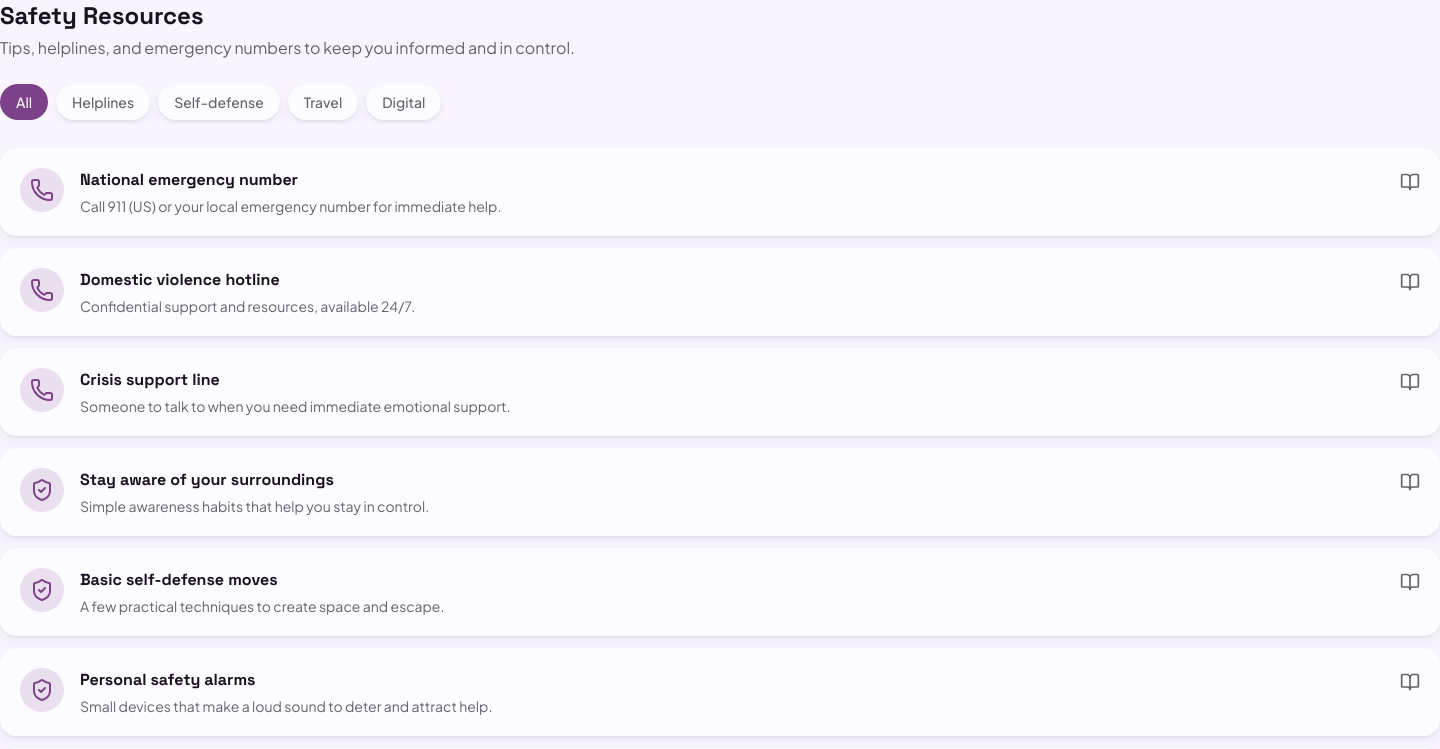
ResourcesPage › opens a resource detail view with full content
Step 1. Click the button with aria-label "Open National emergency number" → {"x": 42, "y": 190}, box [0,148,1439,236]
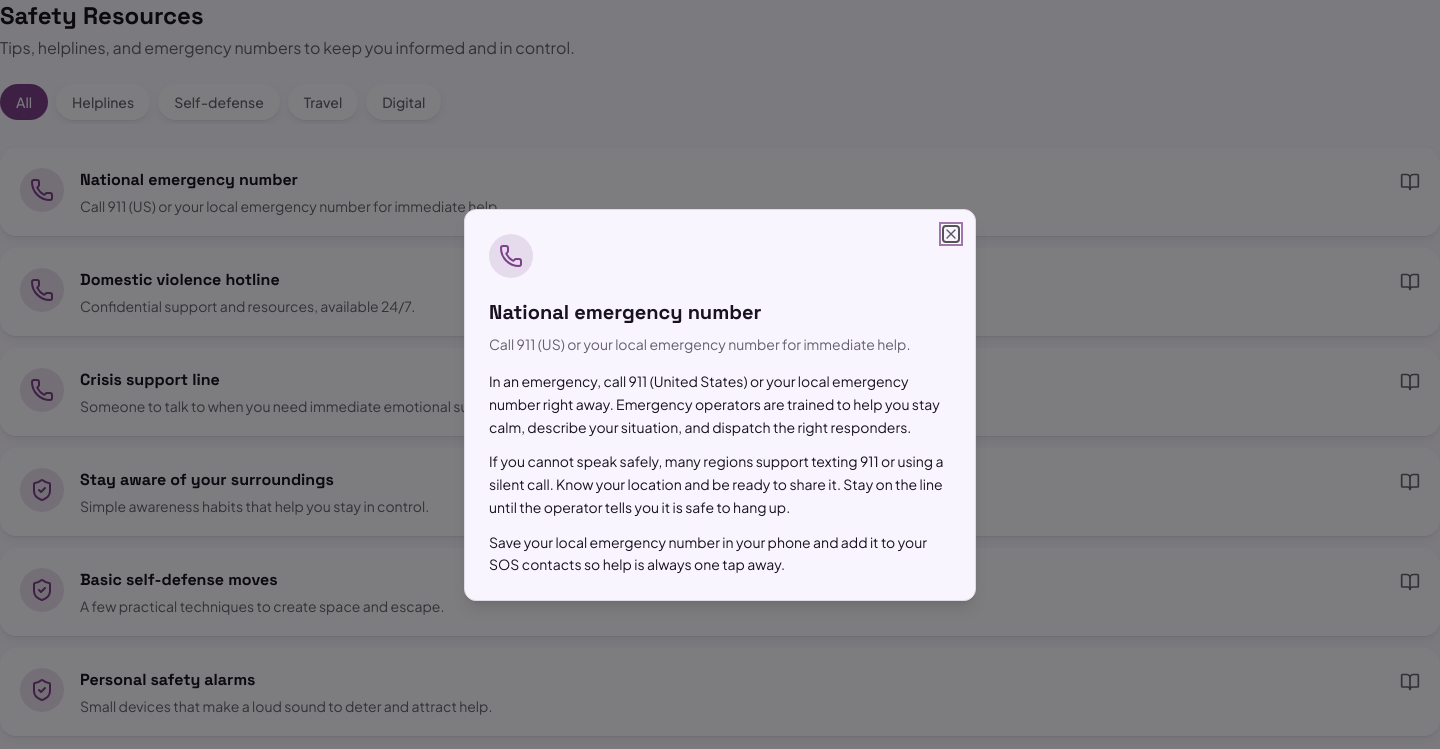
expect the heading "National emergency number" is shown: met, box [489,299,762,325]
expect the text "In an emergency, call 911" is shown: met, box [489,372,940,436]
